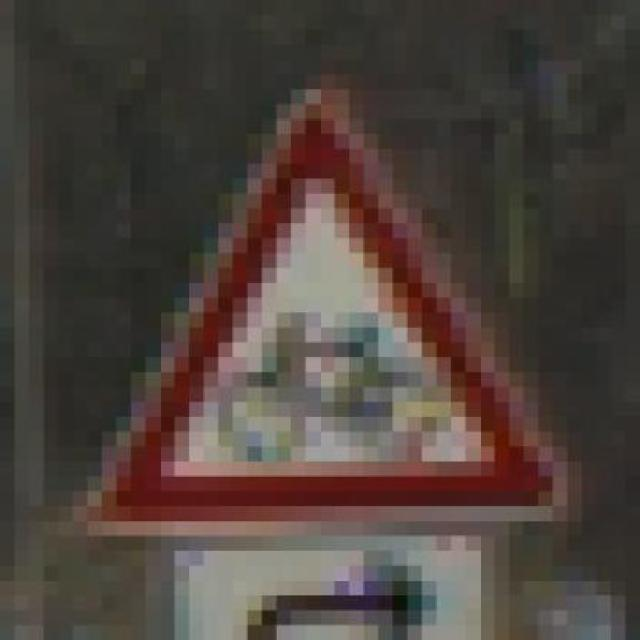CYCLE ROUTE AHEAD WARNING: (72, 44, 568, 536)
